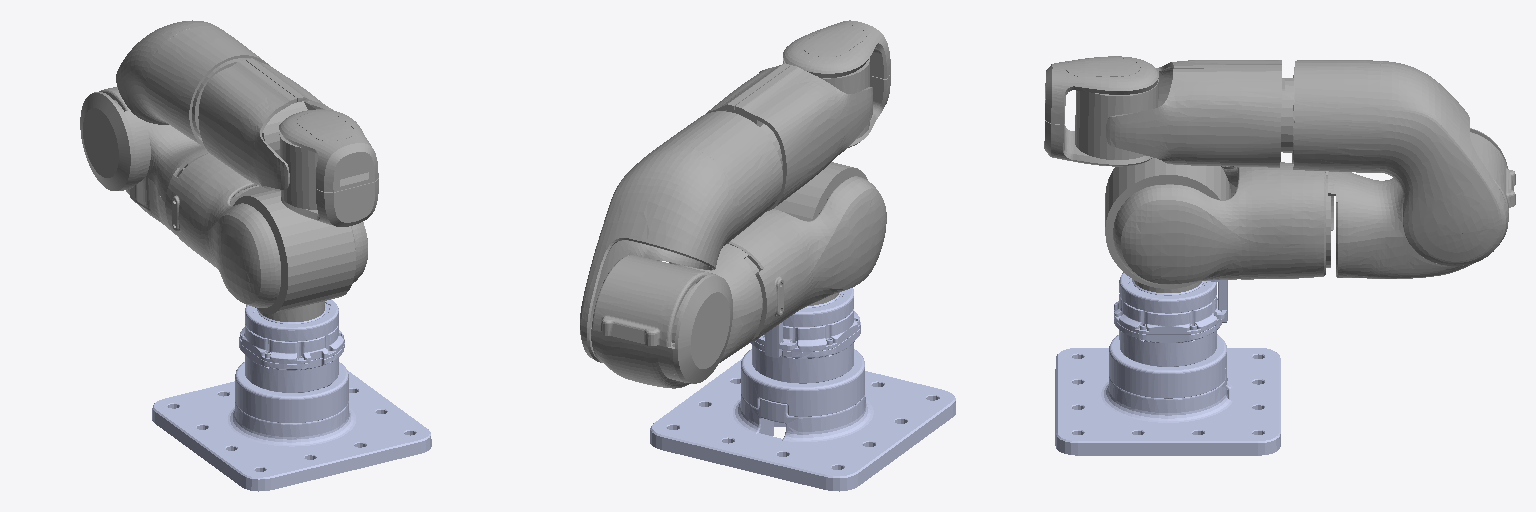
The robot description file, URDF, robot "R1_Robotic_Arm":
<robot name="R1_Robotic_Arm">
  <link name="base_link">
    <inertial>
      <origin xyz="-0.00010643 0.0010041 0.023203" rpy="0 0 0"/>
      <mass value="1.7759"/>
      <inertia ixx="0.0014112" ixy="1.7968E-06" ixz="1.2255E-06" iyy="0.001783" iyz="-8.2296E-06" izz="0.0025584"/>
    </inertial>
    <visual>
      <origin xyz="0 0 0" rpy="0 0 0"/>
      <geometry>
        <mesh filename="meshes/base_link.STL"/>
      </geometry>
      <material name="">
        <color rgba="0.79216 0.81961 0.93333 1"/>
      </material>
    </visual>
    <collision>
      <origin xyz="0 0 0" rpy="0 0 0"/>
      <geometry>
        <mesh filename="meshes/base_link.STL"/>
      </geometry>
    </collision>
  </link>
  <link name="Link1">
    <inertial>
      <origin xyz="2.156E-08 -9.6233E-09 0.045314" rpy="0 0 0"/>
      <mass value="0.89452"/>
      <inertia ixx="0.00082526" ixy="1.1484E-09" ixz="-7.1331E-10" iyy="0.0006531" iyz="5.9698E-10" izz="0.00059909"/>
    </inertial>
    <visual>
      <origin xyz="0 0 0" rpy="0 0 0"/>
      <geometry>
        <mesh filename="meshes/Link1.STL"/>
      </geometry>
      <material name="">
        <color rgba="0.69804 0.69804 0.69804 1"/>
      </material>
    </visual>
    <collision>
      <origin xyz="0 0 0" rpy="0 0 0"/>
      <geometry>
        <mesh filename="meshes/Link1.STL"/>
      </geometry>
    </collision>
  </link>
  <joint name="J1" type="revolute">
    <origin xyz="0 0 0.069" rpy="0 0 0"/>
    <parent link="base_link"/>
    <child link="Link1"/>
    <axis xyz="0 0 -1"/>
    <limit lower="-2.723" upper="2.723" effort="60" velocity="18.7"/>
  </joint>
  <link name="Link2">
    <inertial>
      <origin xyz="0.0017013 0.063321 -0.0042531" rpy="0 0 0"/>
      <mass value="0.74773"/>
      <inertia ixx="0.001137" ixy="9.3E-05" ixz="-6E-06" iyy="0.000672" iyz="3.2E-05" izz="0.001314"/>
    </inertial>
    <visual>
      <origin xyz="0 0 0" rpy="0 0 0"/>
      <geometry>
        <mesh filename="meshes/Link2.STL"/>
      </geometry>
      <material name="">
        <color rgba="0.69804 0.69804 0.69804 1"/>
      </material>
    </visual>
    <collision>
      <origin xyz="0 0 0" rpy="0 0 0"/>
      <geometry>
        <mesh filename="meshes/Link2.STL"/>
      </geometry>
    </collision>
  </link>
  <joint name="J2" type="revolute">
    <origin xyz="0 0 0.0469" rpy="0 0 0"/>
    <parent link="Link1"/>
    <child link="Link2"/>
    <axis xyz="1 0 0"/>
    <limit lower="0" upper="3.1416" effort="60" velocity="18.7"/>
  </joint>
  <link name="Link3">
    <inertial>
      <origin xyz="-0.0062069 0.075751 0.012556" rpy="0 0 0"/>
      <mass value="0.71845"/>
      <inertia ixx="0.000746" ixy="2.9E-05" ixz="1.3E-05" iyy="0.000558" iyz="-0.000086" izz="0.000728"/>
    </inertial>
    <visual>
      <origin xyz="0 0 0" rpy="0 0 0"/>
      <geometry>
        <mesh filename="meshes/Link3.STL"/>
      </geometry>
      <material name="">
        <color rgba="0.69804 0.69804 0.69804 1"/>
      </material>
    </visual>
    <collision>
      <origin xyz="0 0 0" rpy="0 0 0"/>
      <geometry>
        <mesh filename="meshes/Link3.STL"/>
      </geometry>
    </collision>
  </link>
  <joint name="J3" type="revolute">
    <origin xyz="0 0.1085 -0.0047926" rpy="0 0 0"/>
    <parent link="Link2"/>
    <child link="Link3"/>
    <axis xyz="0 1 0"/>
    <limit lower="-0.349" upper="3.491" effort="33" velocity="33.4"/>
  </joint>
  <link name="Link4">
    <inertial>
      <origin xyz="-0.020915 -0.070455 0.060056" rpy="0 0 0"/>
      <mass value="0.85572"/>
      <inertia ixx="0.001009" ixy="-8.4E-05" ixz="6.3E-05" iyy="0.000707" iyz="0.000139" izz="0.00093"/>
    </inertial>
    <visual>
      <origin xyz="0 0 0" rpy="0 0 0"/>
      <geometry>
        <mesh filename="meshes/Link4.STL"/>
      </geometry>
      <material name="">
        <color rgba="0.69804 0.69804 0.69804 1"/>
      </material>
    </visual>
    <collision>
      <origin xyz="0 0 0" rpy="0 0 0"/>
      <geometry>
        <mesh filename="meshes/Link4.STL"/>
      </geometry>
    </collision>
  </link>
  <joint name="J4" type="revolute">
    <origin xyz="0.025 0.082408 0.016191" rpy="0 0 0"/>
    <parent link="Link3"/>
    <child link="Link4"/>
    <axis xyz="1 0 0"/>
    <limit lower="-3.1415" upper="0" effort="33" velocity="33.4"/>
  </joint>
  <link name="Link5">
    <inertial>
      <origin xyz="0.00042498 -0.043121 0.00020709" rpy="0 0 0"/>
      <mass value="0.59294"/>
      <inertia ixx="0.000506" ixy="2E-06" ixz="-1E-06" iyy="0.000349" iyz="-1E-06" izz="0.000501"/>
    </inertial>
    <visual>
      <origin xyz="0 0 0" rpy="0 0 0"/>
      <geometry>
        <mesh filename="meshes/Link5.STL"/>
      </geometry>
      <material name="">
        <color rgba="0.69804 0.69804 0.69804 1"/>
      </material>
    </visual>
    <collision>
      <origin xyz="0 0 0" rpy="0 0 0"/>
      <geometry>
        <mesh filename="meshes/Link5.STL"/>
      </geometry>
    </collision>
  </link>
  <joint name="J5" type="revolute">
    <origin xyz="-0.022314 -0.10786 0.062877" rpy="-0.017453 0 0"/>
    <parent link="Link4"/>
    <child link="Link5"/>
    <axis xyz="0 1 0"/>
    <limit lower="-2.269" upper="2.269" effort="33" velocity="33.4"/>
  </joint>
  <link name="Link6">
    <inertial>
      <origin xyz="-1.3033E-07 -0.0098039 8.3267E-17" rpy="0 0 0"/>
      <mass value="0.391"/>
      <inertia ixx="0.00014242" ixy="0" ixz="0" iyy="0.00014737" iyz="0" izz="0.00015188"/>
    </inertial>
    <visual>
      <origin xyz="0 0 0" rpy="0 0 0"/>
      <geometry>
        <mesh filename="meshes/Link6.STL"/>
      </geometry>
      <material name="">
        <color rgba="0.69804 0.69804 0.69804 1"/>
      </material>
    </visual>
    <collision>
      <origin xyz="0 0 0" rpy="0 0 0"/>
      <geometry>
        <mesh filename="meshes/Link6.STL"/>
      </geometry>
    </collision>
  </link>
  <joint name="J6" type="revolute">
    <origin xyz="-1.1462E-05 -0.1072 0.00069991" rpy="0 -0.016375 0"/>
    <parent link="Link5"/>
    <child link="Link6"/>
    <axis xyz="-1 0 0"/>
    <limit lower="-0.524" upper="0.524" effort="10" velocity="37.7"/>
  </joint>
  <link name="Link7">
    <inertial>
      <origin xyz="-3.7143E-07 -0.018577 0.00595" rpy="0 0 0"/>
      <mass value="0.1048"/>
      <inertia ixx="0.000105" ixy="0" ixz="0" iyy="7.3E-05" iyz="0" izz="6.7E-05"/>
    </inertial>
    <visual>
      <origin xyz="0 0 0" rpy="0 0 0"/>
      <geometry>
        <mesh filename="meshes/Link7.STL"/>
      </geometry>
      <material name="">
        <color rgba="0.69804 0.69804 0.69804 1"/>
      </material>
    </visual>
    <collision>
      <origin xyz="0 0 0" rpy="0 0 0"/>
      <geometry>
        <mesh filename="meshes/Link7.STL"/>
      </geometry>
    </collision>
  </link>
  <joint name="J7" type="revolute">
    <origin xyz="0 -0.01 0" rpy="-3.1416 0 -3.1416"/>
    <parent link="Link6"/>
    <child link="Link7"/>
    <axis xyz="0 0 -1"/>
    <limit lower="-1.571" upper="1.571" effort="10" velocity="37.7"/>
  </joint>
</robot>

--- Facts derived from the render (not from the file) ---
The picture shows the robot from 3 angles, left to right: view 1: azimuth 30°, elevation 25°; view 2: azimuth 150°, elevation 25°; view 3: azimuth 270°, elevation 25°; orthographic projection.
Robot: R1_Robotic_Arm — 8 links, 7 joints (7 revolute); root link base_link; default pose: all joints at 0.
Links seen in each view (by area): view 1: base_link, Link2, Link5, Link4, Link3, Link1, Link7, Link6; view 2: base_link, Link4, Link3, Link2, Link5, Link7, Link1, Link6; view 3: base_link, Link4, Link2, Link5, Link3, Link7, Link1, Link6.
Boxes of the visible links, left/top/right/bottom form: base_link: left=152, top=299, right=431, bottom=491; Link2: left=165, top=153, right=367, bottom=307; Link5: left=198, top=58, right=333, bottom=190; Link4: left=116, top=20, right=269, bottom=147; Link3: left=80, top=87, right=208, bottom=234; Link1: left=233, top=190, right=355, bottom=321; Link7: left=279, top=109, right=378, bottom=226; Link6: left=279, top=132, right=317, bottom=209; base_link: left=650, top=288, right=955, bottom=491; Link4: left=580, top=111, right=782, bottom=362; Link3: left=591, top=244, right=761, bottom=388; Link2: left=727, top=176, right=886, bottom=341; Link5: left=706, top=63, right=872, bottom=210; Link7: left=783, top=20, right=890, bottom=147; Link1: left=774, top=162, right=867, bottom=305; Link6: left=783, top=58, right=869, bottom=139; base_link: left=1055, top=272, right=1280, bottom=455; Link4: left=1292, top=60, right=1508, bottom=265; Link2: left=1113, top=162, right=1333, bottom=284; Link5: left=1106, top=60, right=1293, bottom=167; Link3: left=1328, top=128, right=1515, bottom=278; Link7: left=1044, top=56, right=1158, bottom=166; Link1: left=1105, top=158, right=1230, bottom=292; Link6: left=1075, top=79, right=1158, bottom=159.
Size in the robot's own frame: 0.15 by 0.3133 by 0.2527 metres.
8 mesh visuals loaded from 8 distinct referenced files (8 binary STL).
